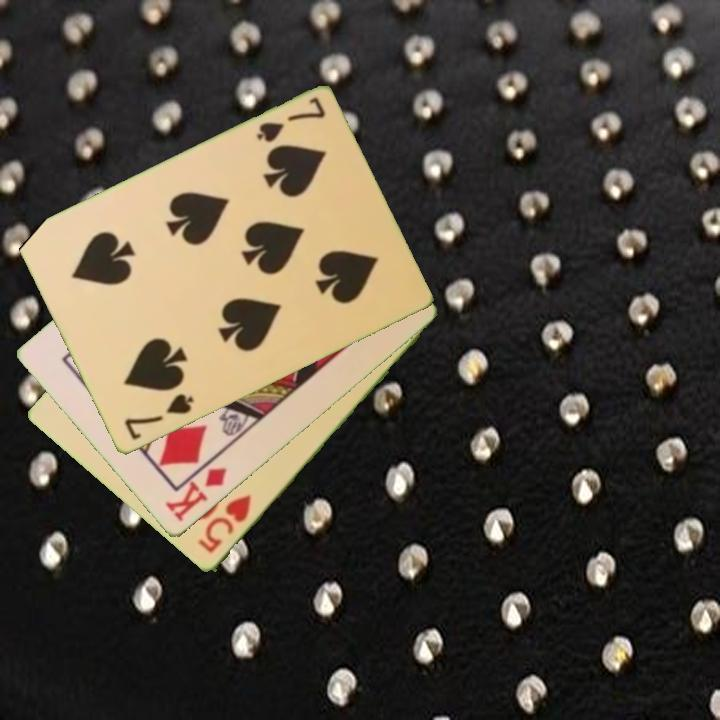5h: (194, 491, 255, 557)
7s: (120, 390, 197, 443), (252, 94, 329, 147)
Kd: (161, 464, 230, 526)
